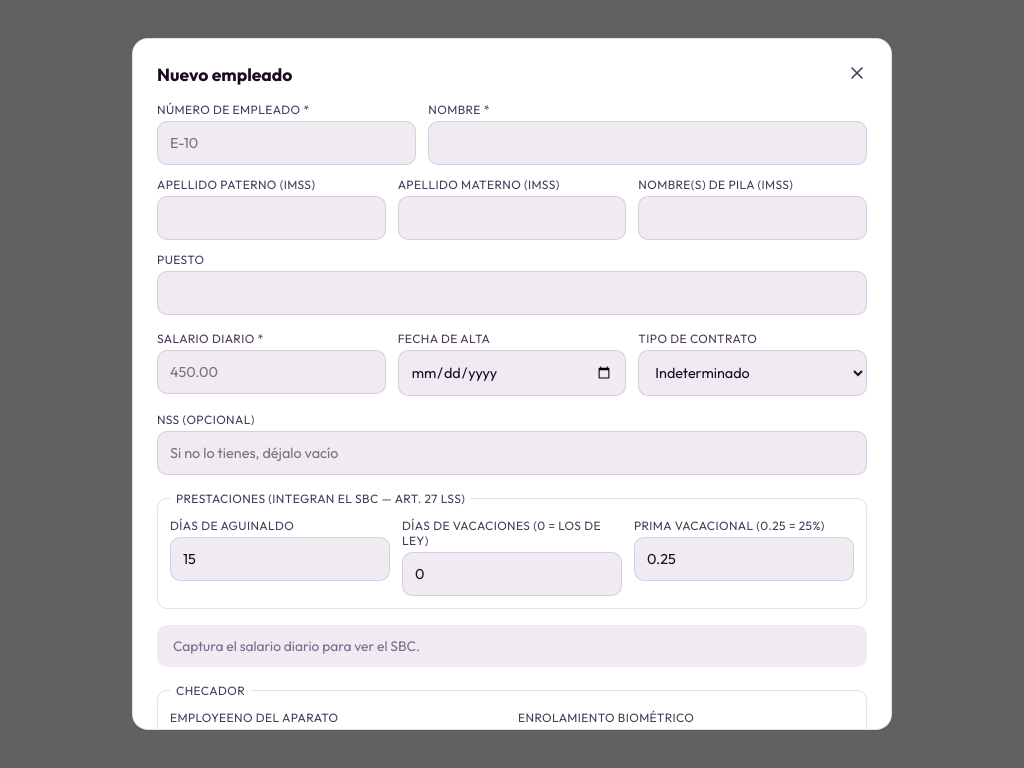
ModalEmpleado · el número del checador no se puede repetir › avisa y no deja guardar si otro empleado ya tiene ese número
This screenshot has width=1024, height=768.
In the field labelled "Número de empleado *": {"x": 287, "y": 143} [157, 121, 416, 165], type "N-01"
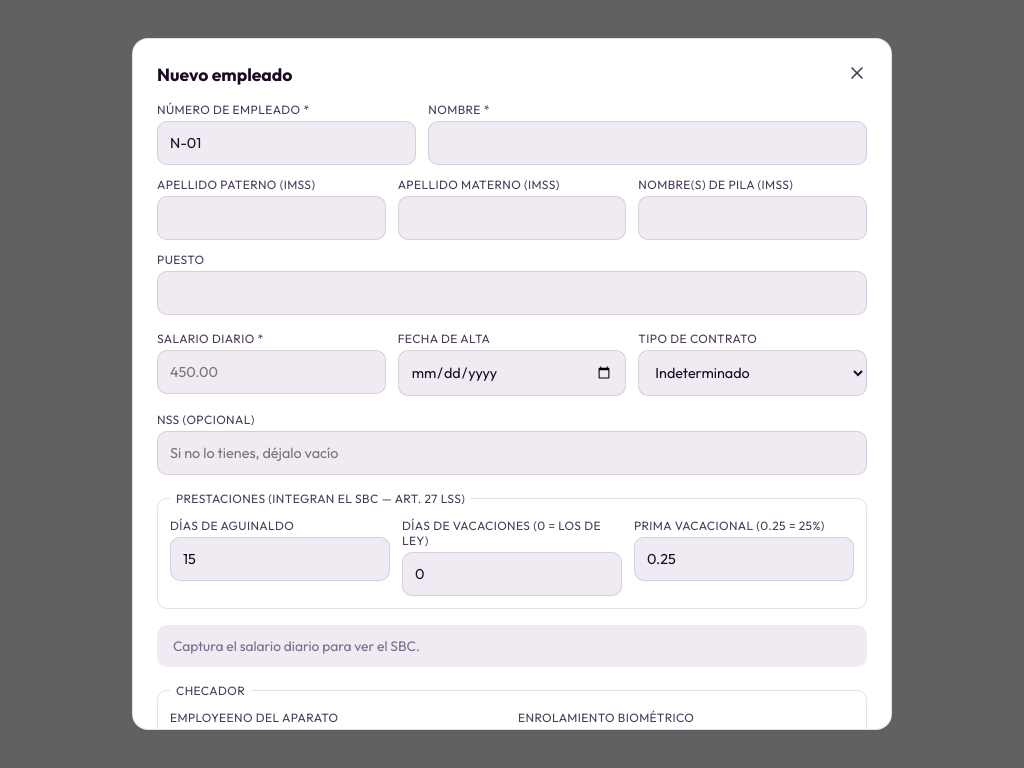
In the field labelled "Nombre *": {"x": 648, "y": 143} [428, 121, 867, 165], type "PERSONA NUEVA"
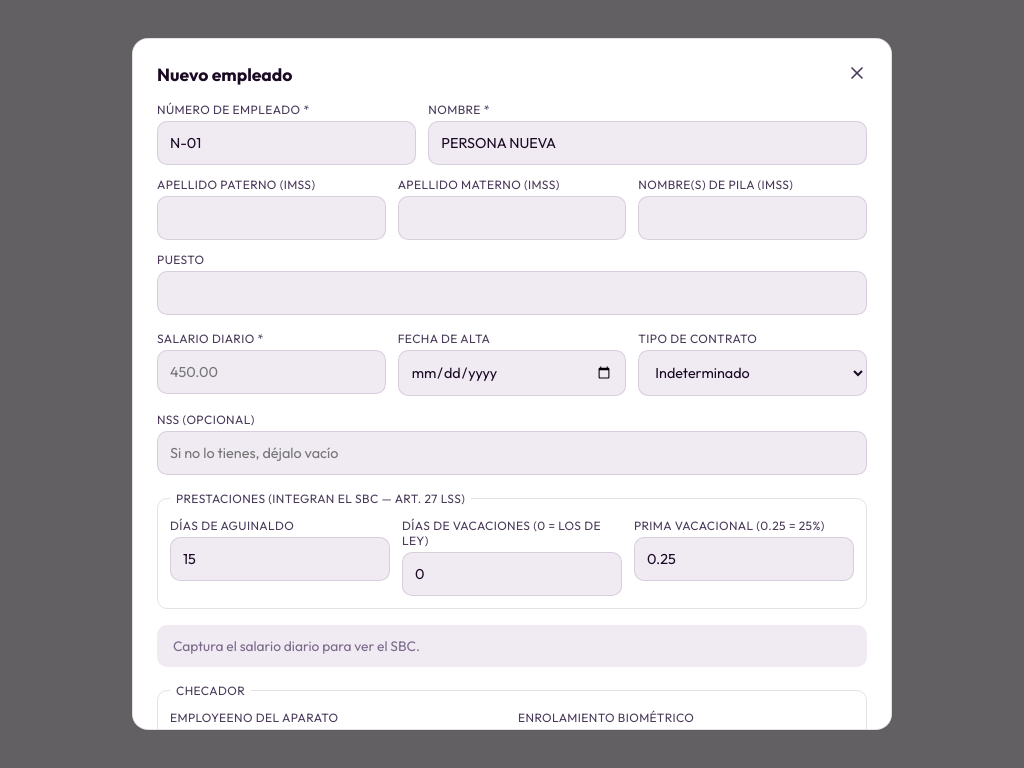
In the field labelled "Salario diario *": {"x": 271, "y": 372} [157, 350, 386, 394], type "500.00"
(page scrolled)
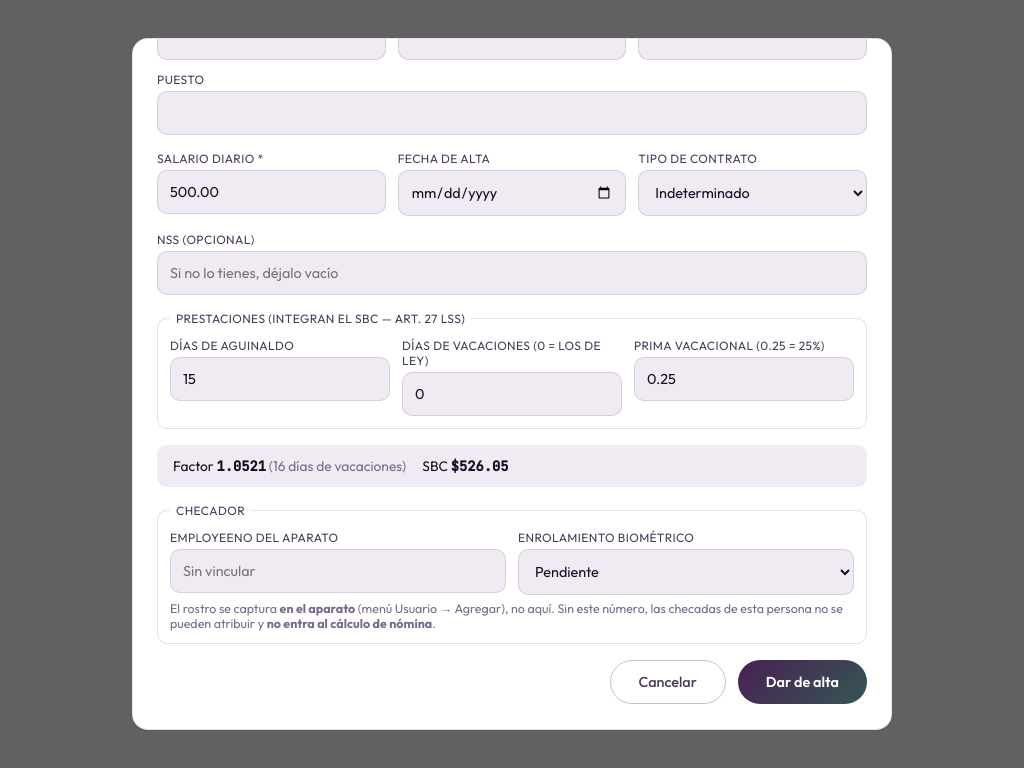
Now the text "$526.05" is shown, box [451, 457, 509, 475]
In the field labelled "employeeNo del aparato": {"x": 338, "y": 571} [170, 549, 506, 593], type "7"
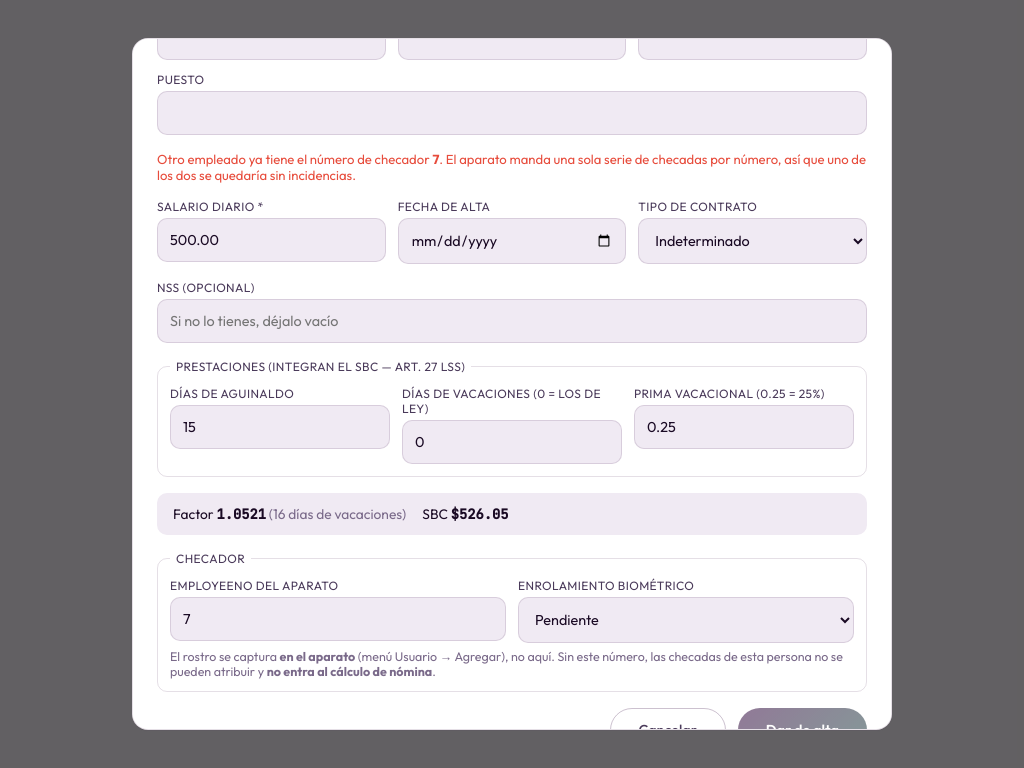
Now the message shows "ya tiene el número de checador", box [157, 151, 430, 167]
